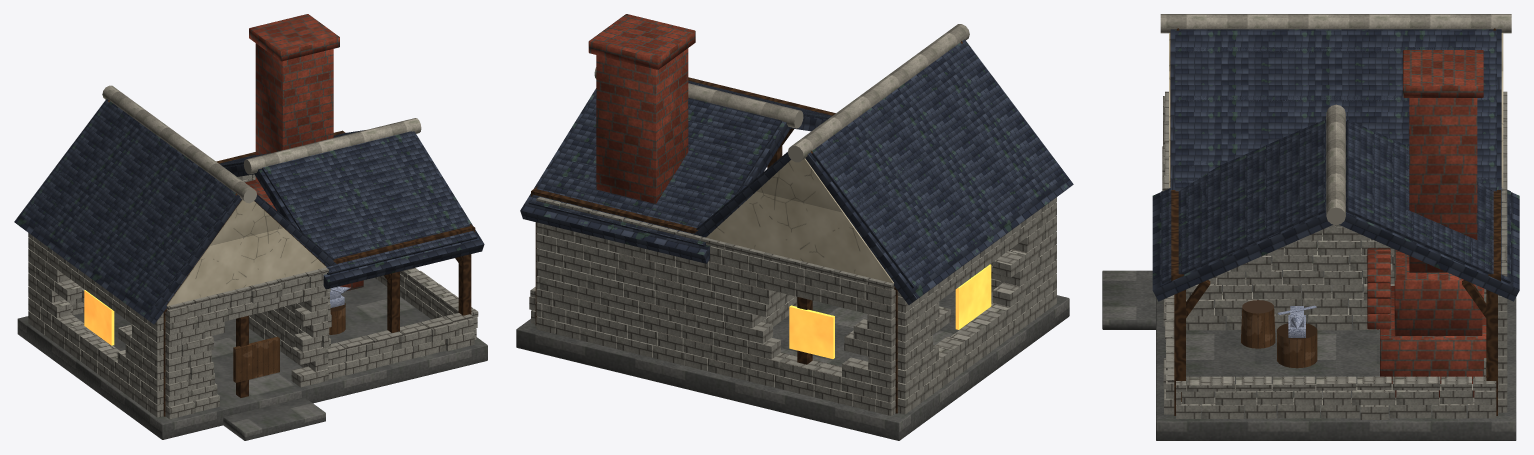
Rendered from bld_blacksmith_forge_shop.glb.
The picture shows the model from 3 angles, left to right: view 1: azimuth 30°, elevation 25°; view 2: azimuth 150°, elevation 25°; view 3: azimuth 270°, elevation 25°; orthographic projection. The views are drawn at different scales.
Parts seen in each view (by area): view 1: slate_roof_shingles, smithy_stone_walls, foundation_plinth, forge_chimney_hearth, upper_plaster_gables, roof_ridge_stone, oak_timber_frame, oak_stump_and_door, lit_workshop_windows; view 2: slate_roof_shingles, smithy_stone_walls, forge_chimney_hearth, foundation_plinth, upper_plaster_gables, roof_ridge_stone, lit_workshop_windows, oak_timber_frame; view 3: slate_roof_shingles, smithy_stone_walls, forge_chimney_hearth, foundation_plinth, roof_ridge_stone, oak_timber_frame, oak_stump_and_door, upper_plaster_gables, steel_anvil_and_blades.
Part boxes in pixels (<box>): slate_roof_shingles: <box>14,99,484,324</box>; smithy_stone_walls: <box>28,174,478,419</box>; foundation_plinth: <box>17,277,487,440</box>; forge_chimney_hearth: <box>245,14,363,291</box>; upper_plaster_gables: <box>167,200,326,306</box>; roof_ridge_stone: <box>102,85,421,203</box>; oak_timber_frame: <box>108,100,475,416</box>; oak_stump_and_door: <box>233,303,345,382</box>; lit_workshop_windows: <box>84,290,114,345</box>; slate_roof_shingles: <box>520,39,1073,304</box>; smithy_stone_walls: <box>529,197,1056,415</box>; forge_chimney_hearth: <box>588,14,695,203</box>; foundation_plinth: <box>516,290,1069,440</box>; upper_plaster_gables: <box>706,158,893,283</box>; roof_ridge_stone: <box>594,24,969,162</box>; lit_workshop_windows: <box>789,264,991,358</box>; oak_timber_frame: <box>531,41,962,413</box>; slate_roof_shingles: <box>1152,29,1519,301</box>; smithy_stone_walls: <box>1162,91,1507,419</box>; forge_chimney_hearth: <box>1367,50,1486,397</box>; foundation_plinth: <box>1102,240,1516,440</box>; roof_ridge_stone: <box>1160,14,1511,225</box>; oak_timber_frame: <box>1170,28,1500,415</box>; oak_stump_and_door: <box>1241,300,1317,368</box>; upper_plaster_gables: <box>1169,33,1503,187</box>; steel_anvil_and_blades: <box>1277,305,1316,337</box>.
Size of the model in its own units: 9.92 by 7.39 by 8.57.
Materials: 11 (11 with a texture image).
